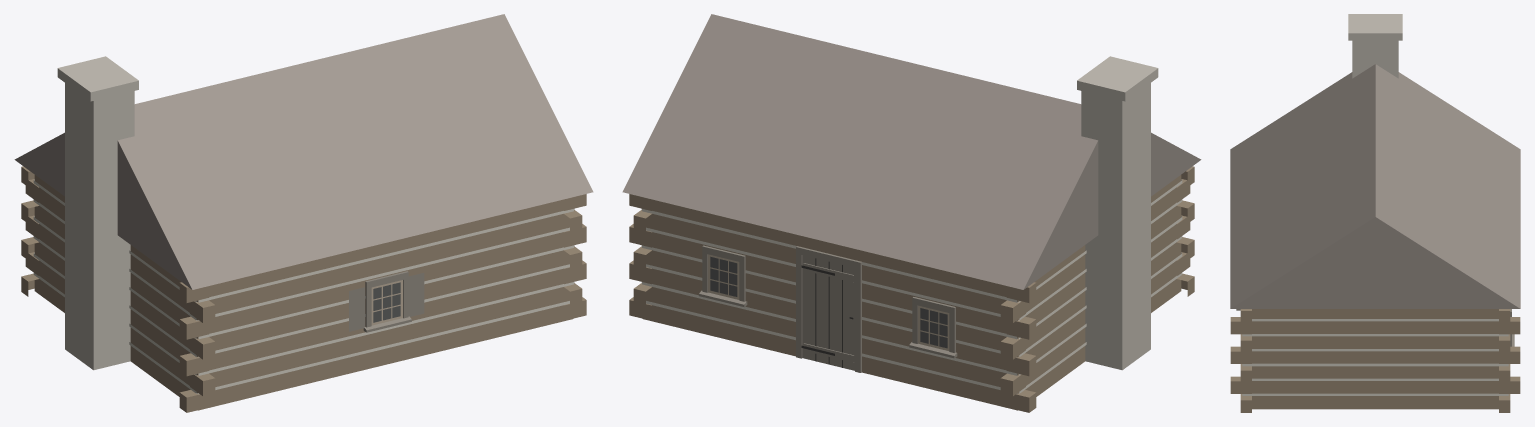
The model's file is burns_house_1812__burns_1812.glb.
3 renders of one model, left to right at view 1: azimuth 30°, elevation 25°; view 2: azimuth 150°, elevation 25°; view 3: azimuth 270°, elevation 25°, orthographic. The views are drawn at different scales.
Visible parts, largest first — view 1: burns_house_1812__burns_1812; view 2: burns_house_1812__burns_1812; view 3: burns_house_1812__burns_1812.
Boxes of the visible parts, <box> form: burns_house_1812__burns_1812: <box>14,14,593,412</box>; burns_house_1812__burns_1812: <box>622,14,1201,412</box>; burns_house_1812__burns_1812: <box>1230,14,1520,412</box>.
Bounding box in the file's own units: 8.37 × 5.22 × 6.
